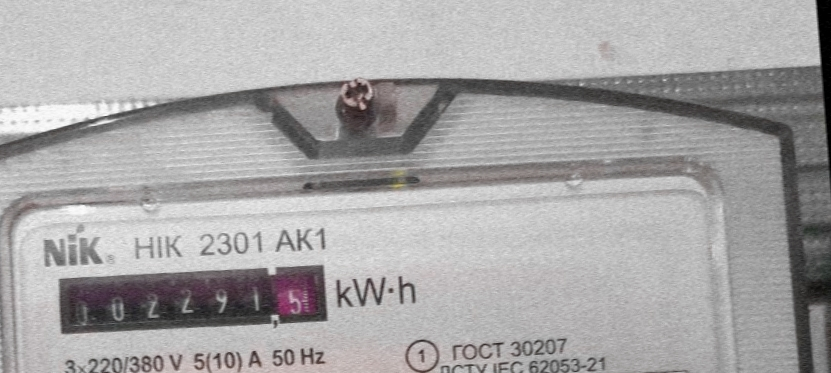0: (70, 295, 90, 326), (108, 292, 126, 323)
1: (246, 281, 263, 316)
2: (143, 290, 161, 320), (177, 285, 193, 315)
5: (285, 285, 303, 316)
9: (211, 284, 230, 315)
screen: (51, 251, 333, 349)
